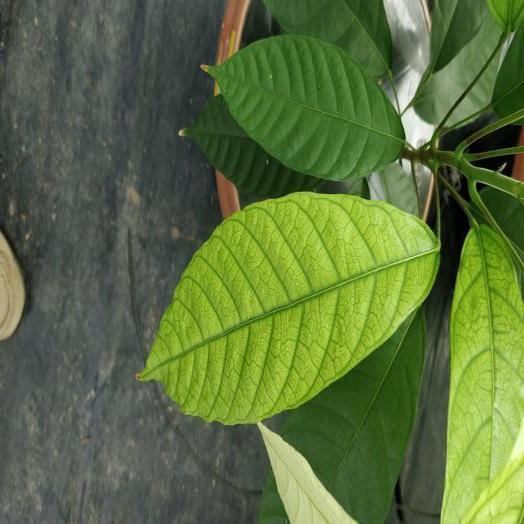Healthy Leaf: (279, 310, 425, 523), (206, 36, 404, 179), (410, 0, 523, 129), (180, 95, 319, 197), (264, 0, 392, 78)
Iron: (139, 193, 439, 423), (441, 225, 523, 523), (258, 423, 357, 523)
